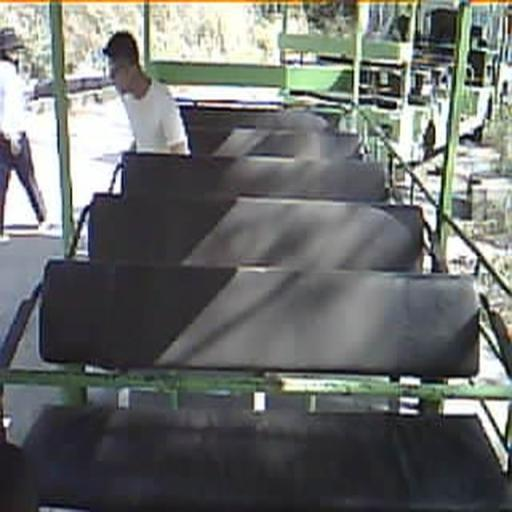persona: (101, 30, 192, 157)
